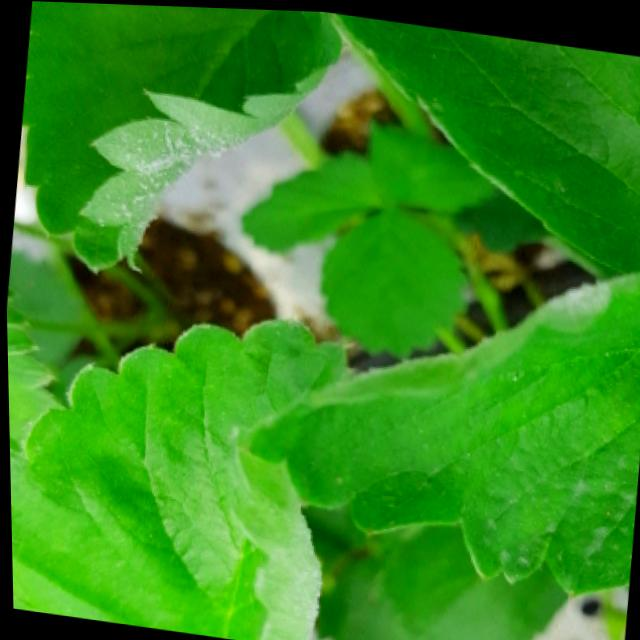Powdery Mildew Leaf: (8, 316, 352, 640), (21, 1, 341, 272)
